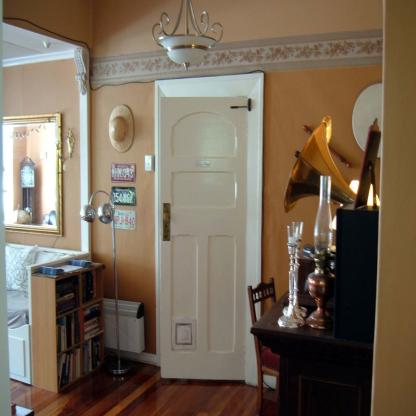book: (78, 337, 105, 381), (57, 343, 77, 393), (81, 302, 105, 341), (58, 313, 77, 360), (51, 282, 74, 318)
